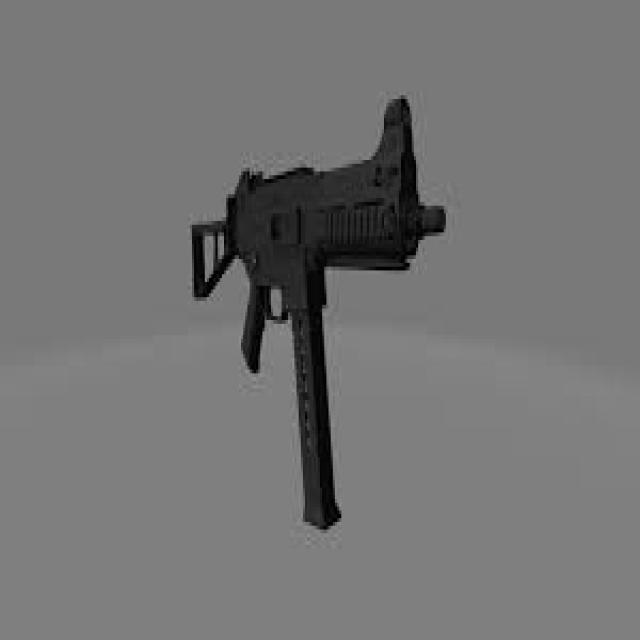Gun: (197, 99, 462, 507)
